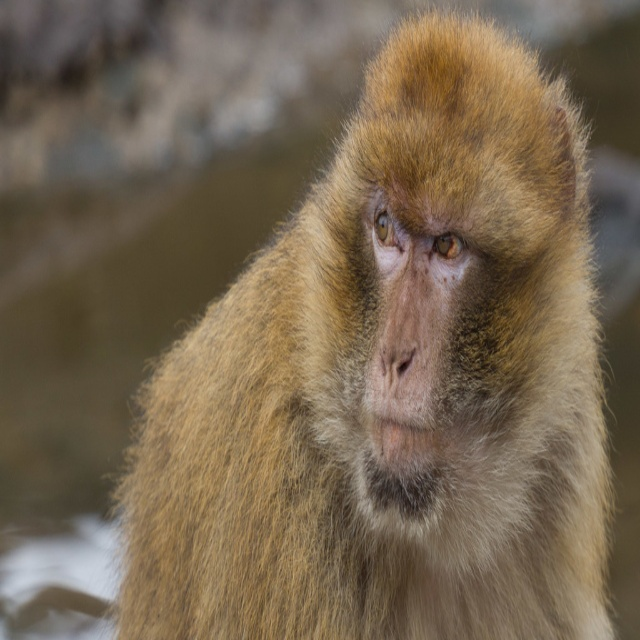Monkey: (91, 1, 626, 640)
